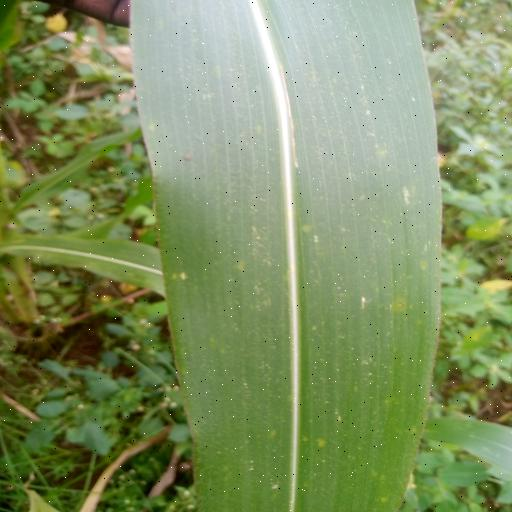Corn_Chlorotic_Leaf_Spot: (124, 0, 458, 512)
